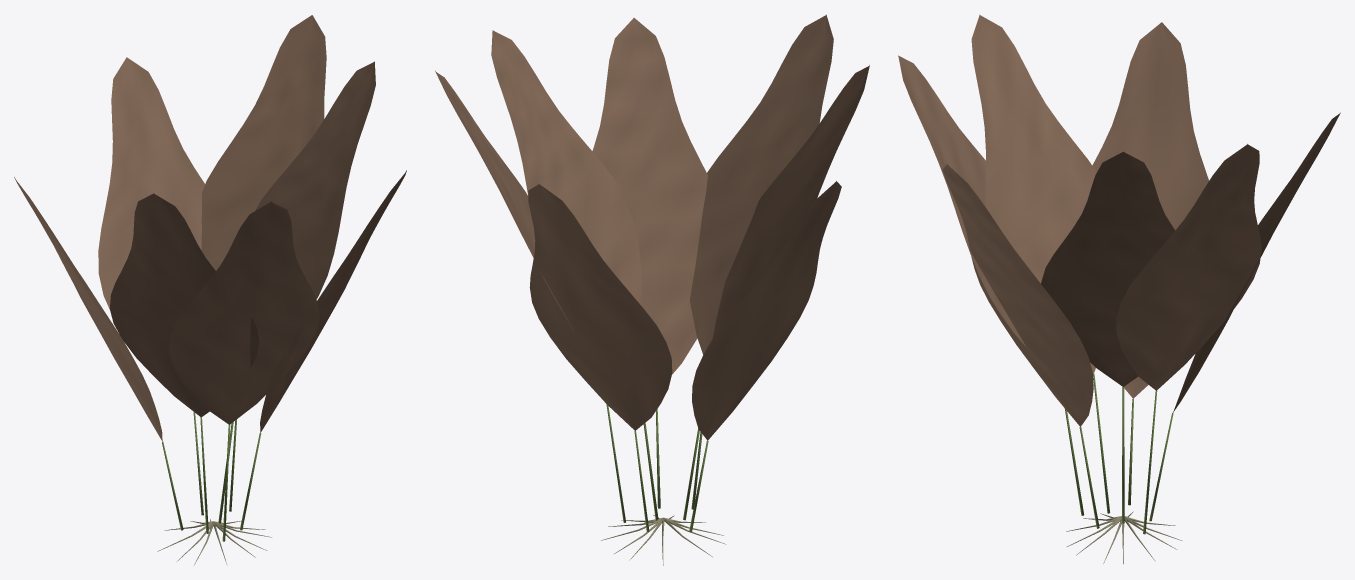
Rendered from lotus-mobile.glb.
The picture shows the model from 3 angles, left to right: view 1: azimuth 30°, elevation 25°; view 2: azimuth 150°, elevation 25°; view 3: azimuth 270°, elevation 25°; orthographic projection. The views are drawn at different scales.
Visible parts, largest first — view 1: blade, petiole, anchoring-root; view 2: blade, petiole, anchoring-root; view 3: blade, petiole, anchoring-root.
Part boxes in pixels (x1,y1,x2,y2): blade: (14,15,406,441); petiole: (162,412,261,541); anchoring-root: (157,519,271,565); blade: (435,14,869,440); petiole: (606,404,708,531); anchoring-root: (601,515,725,565); blade: (898,14,1340,426); petiole: (1064,374,1173,534); anchoring-root: (1066,511,1182,564).
Size of the model in its own units: 0.7114 by 0.8884 by 0.747.
